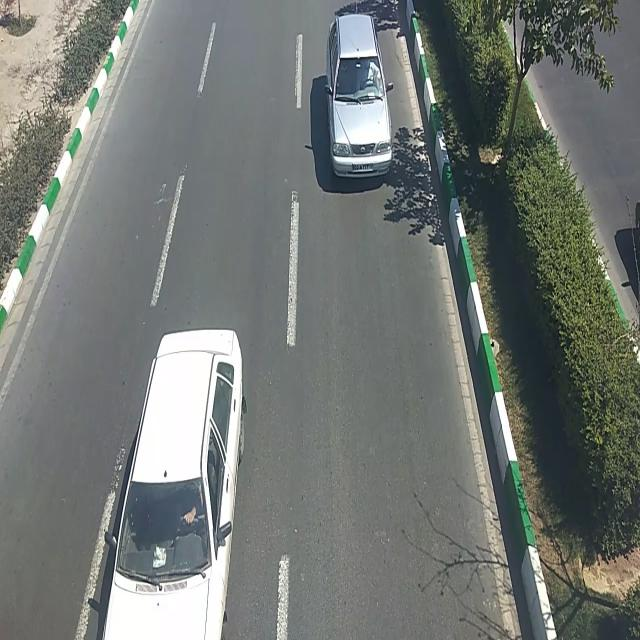car: (100, 330, 244, 640), (322, 17, 394, 180)
